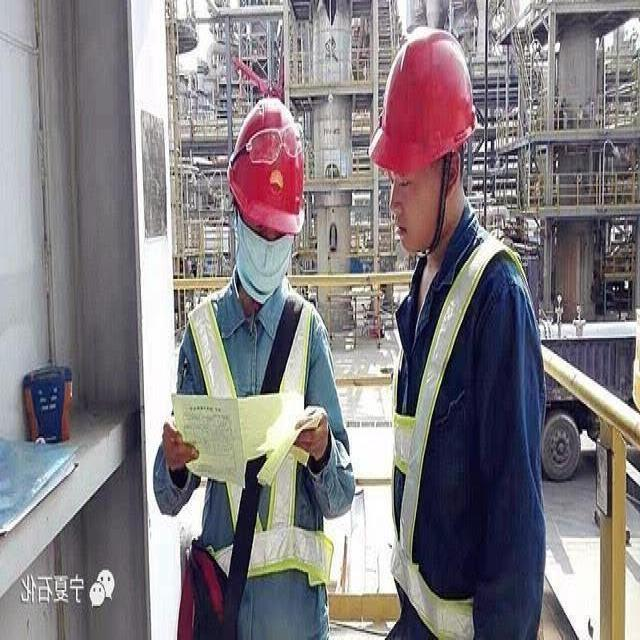helmet: (368, 15, 481, 172), (222, 94, 306, 236)
jacket: (385, 213, 549, 633), (178, 298, 346, 589)
